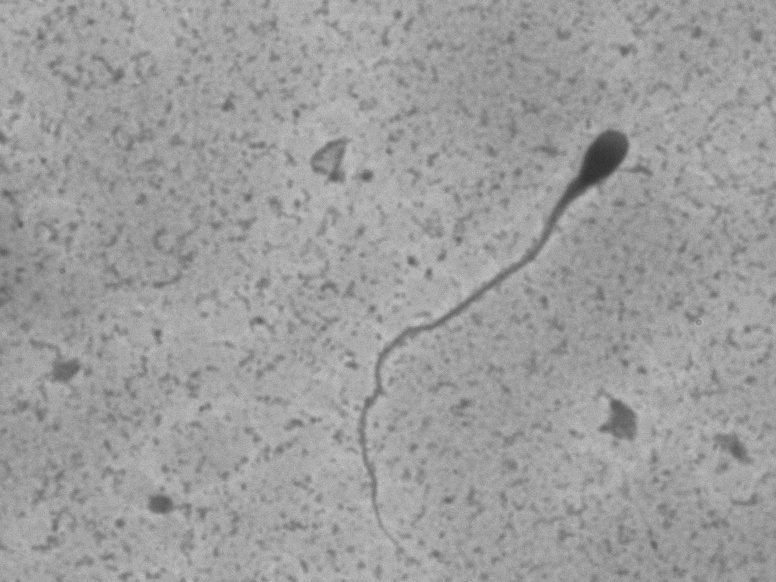Abnormal: (316, 86, 638, 556)
